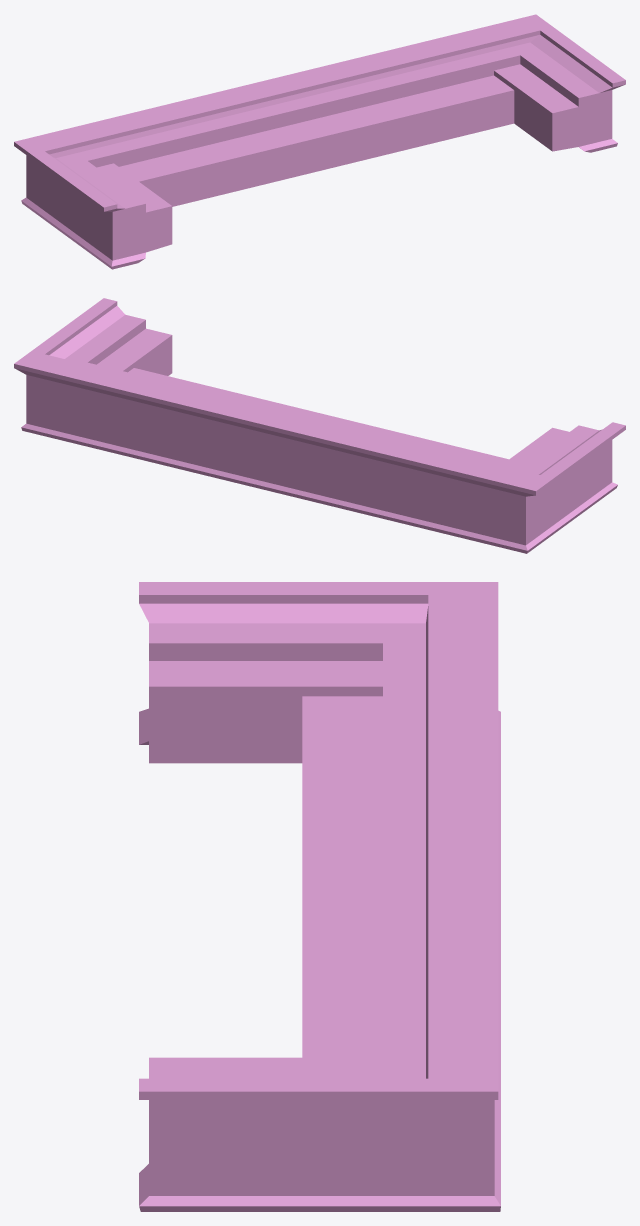
Rendered from BalcaoLow.fbx.
The picture shows the model from 3 angles, top to bottom: view 1: azimuth 30°, elevation 25°; view 2: azimuth 150°, elevation 25°; view 3: azimuth 270°, elevation 25°; orthographic projection. The views are drawn at different scales.
Parts seen in each view (by area): view 1: Cube.052; view 2: Cube.052; view 3: Cube.052.
Boxes of the visible parts, x1,y1,x2,y2 form: Cube.052: (14,14,625,269); Cube.052: (14,298,625,553); Cube.052: (139,582,500,1211).
Bounding box in the file's own units: 1264 × 149 × 380.
